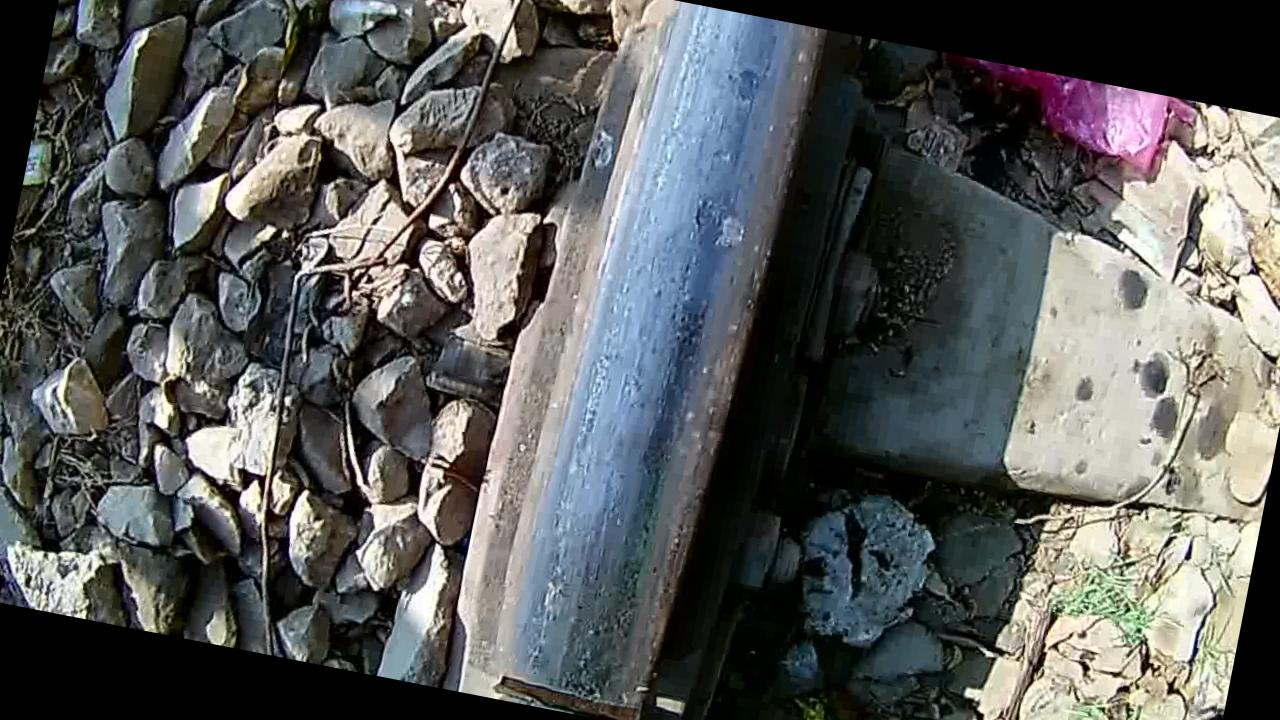crack: (511, 0, 814, 705)
